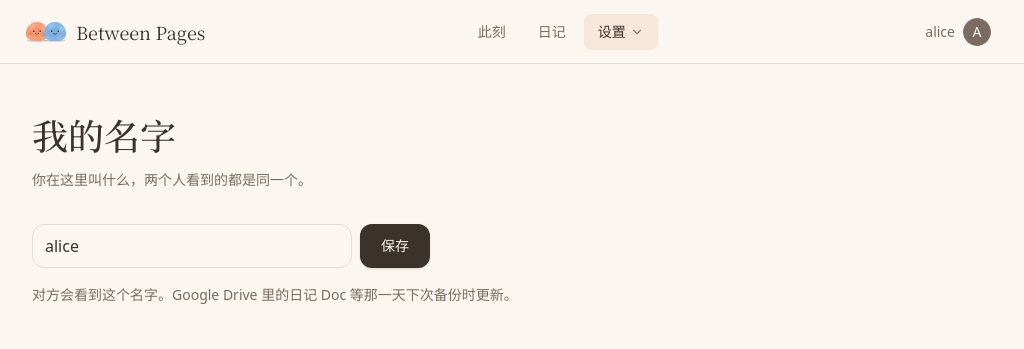
Test: NamePage › says the server’s refusal and a failed save in words, keeping the input
Check: the heading "我的名字" is shown, box x1=32 y1=112 x2=176 y2=157
Step 1. Replace the text in the field named "名字" with "小雨" → (192, 246), box x1=32 y1=224 x2=352 y2=268
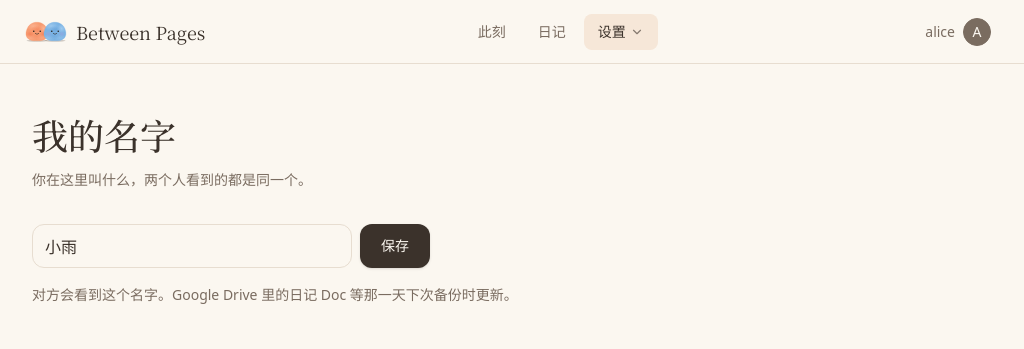
Step 2. Click the button "保存" → (395, 246), box x1=360 y1=224 x2=430 y2=268
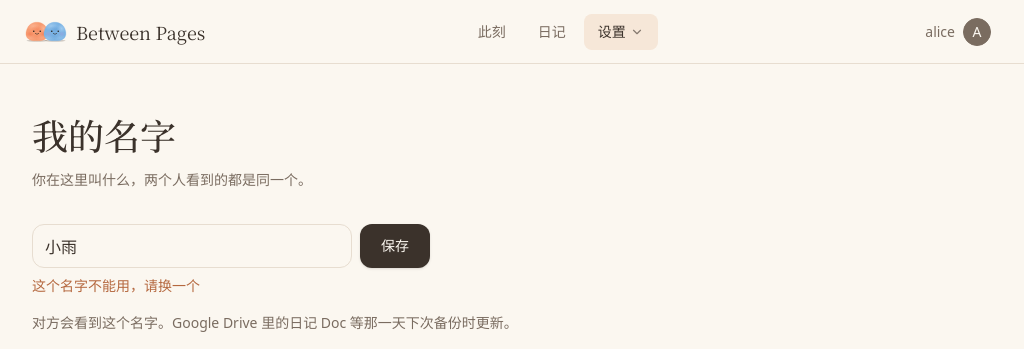
Check: the message reads "这个名字不能用，请换一个", box x1=32 y1=276 x2=200 y2=295
Step 3. Click the button "保存" → (395, 246), box x1=360 y1=224 x2=430 y2=268
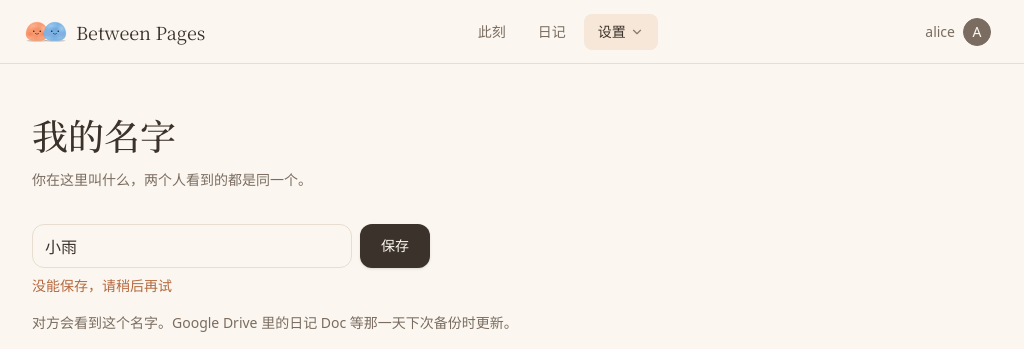
Check: the message reads "没能保存，请稍后再试", box x1=32 y1=276 x2=172 y2=295
